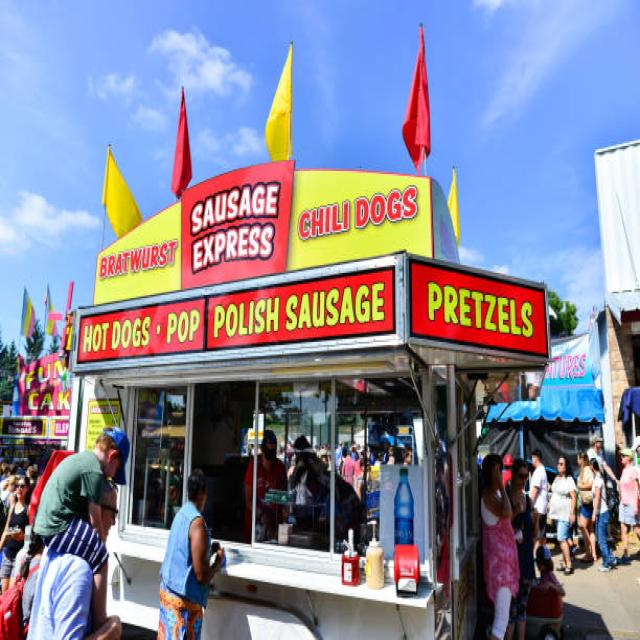Emperan: (61, 13, 558, 640)
